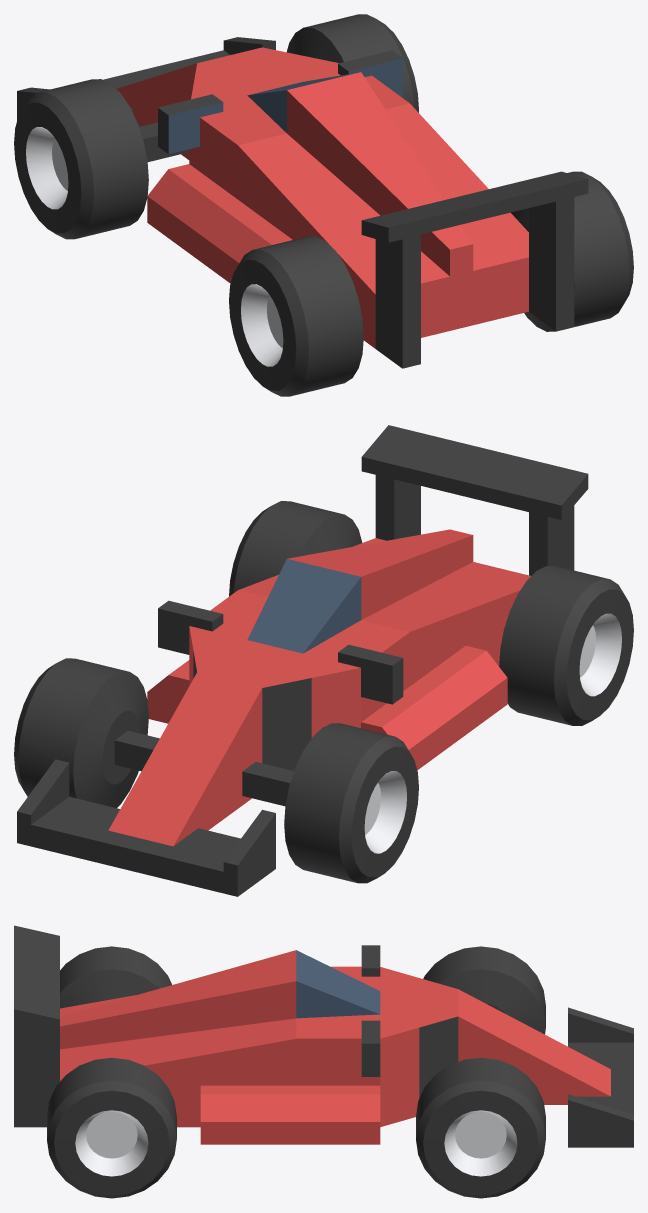
The model's file is race-car-red.dae.
The picture shows the model from 3 angles, top to bottom: view 1: azimuth 30°, elevation 25°; view 2: azimuth 150°, elevation 25°; view 3: azimuth 270°, elevation 25°; orthographic projection. The views are drawn at different scales.
Parts seen in each view (by area): view 1: body, wheelBackRight, wheelFrontRight, wheelBackLeft, wheelFrontLeft; view 2: body, wheelFrontRight, wheelBackRight, wheelFrontLeft, wheelBackLeft; view 3: body, wheelBackLeft, wheelFrontLeft, wheelFrontRight, wheelBackRight.
Boxes of the visible parts, box(x1,y1,x2,y2) form: body: box(17, 37, 588, 368); wheelBackRight: box(229, 236, 363, 396); wheelFrontRight: box(14, 79, 148, 239); wheelBackLeft: box(511, 171, 633, 331); wheelFrontLeft: box(287, 14, 418, 112); body: box(17, 425, 588, 896); wheelFrontRight: box(284, 723, 418, 883); wheelBackRight: box(499, 566, 633, 725); wheelFrontLeft: box(14, 658, 148, 808); wheelBackLeft: box(229, 501, 362, 596); body: box(14, 925, 633, 1147); wheelBackLeft: box(47, 1057, 176, 1198); wheelFrontLeft: box(416, 1057, 545, 1198); wheelFrontRight: box(423, 946, 545, 1034); wheelBackRight: box(60, 946, 171, 1008).
Size of the model in its own units: 0.7288 by 0.397 by 1.35.
